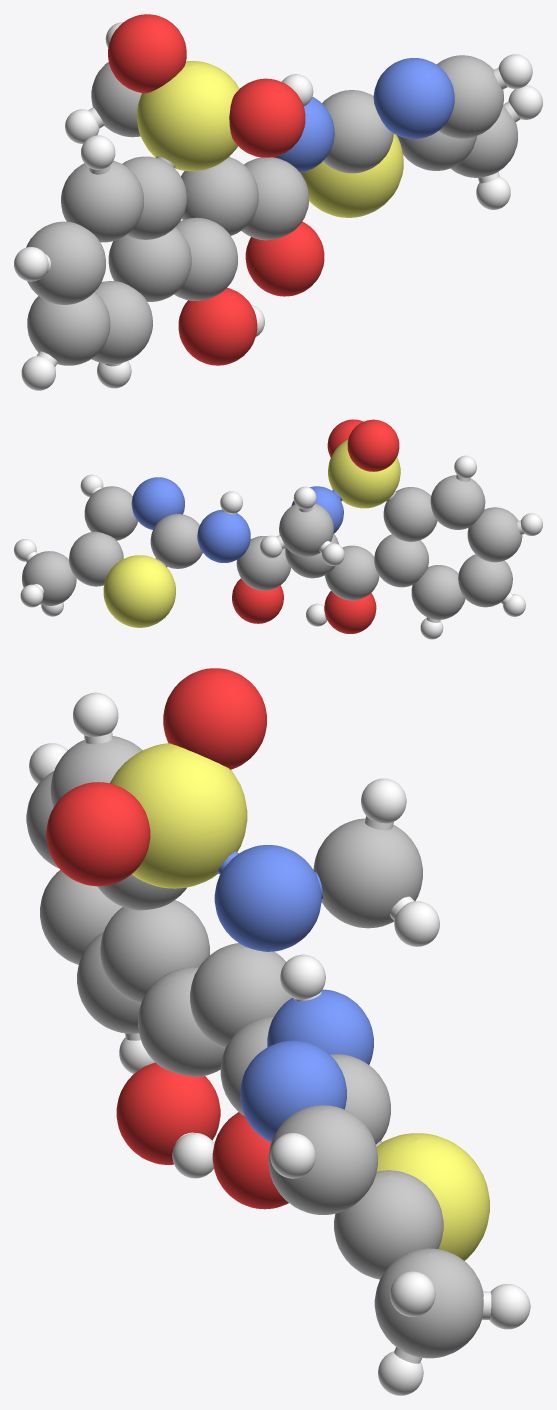
The model's file is meloxicam.glb.
3 views of the same model, one above another, from view 1: azimuth 30°, elevation 25°; view 2: azimuth 150°, elevation 25°; view 3: azimuth 270°, elevation 25° (orthographic). The views are drawn at different scales.
Visible parts, largest first — view 1: Sulfur_ball, Nitrogen_ball_4, Carbon_ball_2, Oxygen_ball_2, Oxygen_ball, Carbon_ball_10, Oxygen_ball_4, Carbon_ball_4, Sulfur_ball_2, Carbon_ball_6, Carbon_ball_18, Oxygen_ball_6 (+23 smaller); view 2: Sulfur_ball_2, Sulfur_ball, Carbon_ball_2, Carbon_ball_10, Carbon_ball_8, Carbon_ball_18, Nitrogen_ball_2, Carbon_ball, Carbon_ball_6, Carbon_ball_4, Carbon_ball_26, Carbon_ball_22 (+23 smaller); view 3: Sulfur_ball, Nitrogen_ball, Carbon_ball_26, Oxygen_ball_2, Carbon_ball_24, Carbon_ball_20, Oxygen_ball, Carbon_ball_22, Carbon_ball_6, Sulfur_ball_2, Oxygen_ball_4, Nitrogen_ball_4 (+22 smaller).
Part boxes in pixels (x1,y1,x2,y2): Sulfur_ball: (137, 61, 239, 171); Nitrogen_ball_4: (373, 58, 454, 138); Carbon_ball_2: (61, 160, 143, 242); Oxygen_ball_2: (229, 78, 305, 157); Oxygen_ball: (108, 14, 186, 93); Carbon_ball_10: (26, 221, 105, 304); Oxygen_ball_4: (178, 287, 257, 365); Carbon_ball_4: (27, 292, 110, 365); Sulfur_ball_2: (300, 134, 403, 217); Carbon_ball_6: (108, 227, 191, 301); Carbon_ball_18: (322, 90, 393, 173); Oxygen_ball_6: (245, 221, 324, 296); Sulfur_ball_2: (103, 555, 175, 627); Sulfur_ball: (328, 439, 400, 508); Carbon_ball_2: (430, 475, 485, 529); Carbon_ball_10: (467, 507, 522, 562); Carbon_ball_8: (383, 487, 437, 541); Carbon_ball_18: (150, 514, 202, 568); Nitrogen_ball_2: (197, 509, 250, 562); Carbon_ball: (411, 565, 465, 619); Carbon_ball_6: (374, 534, 428, 587); Carbon_ball_4: (458, 554, 512, 607); Carbon_ball_26: (279, 503, 333, 556); Carbon_ball_22: (69, 531, 123, 586); Sulfur_ball: (110, 743, 247, 888); Nitrogen_ball: (214, 845, 321, 951); Carbon_ball_26: (313, 818, 422, 928); Oxygen_ball_2: (46, 782, 150, 886); Carbon_ball_24: (374, 1248, 483, 1358); Carbon_ball_20: (268, 1105, 377, 1214); Oxygen_ball: (163, 668, 266, 769); Carbon_ball_22: (334, 1170, 443, 1279); Carbon_ball_6: (100, 900, 209, 1003); Sulfur_ball_2: (376, 1133, 489, 1260); Oxygen_ball_4: (116, 1062, 220, 1164); Nitrogen_ball_4: (240, 1040, 346, 1142).
Size of the model in its own units: 14.09 by 7 by 7.06.
